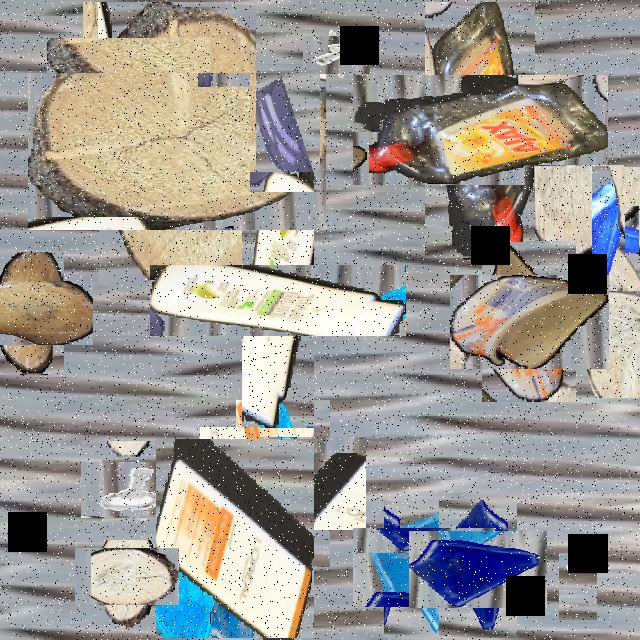glass: (218, 418, 348, 549), (65, 20, 193, 147), (368, 512, 479, 622), (424, 515, 532, 623), (250, 68, 320, 192), (200, 427, 260, 533), (572, 186, 640, 272)
metal: (91, 452, 169, 529), (155, 166, 213, 268), (310, 29, 362, 81), (559, 553, 597, 620)
plastic: (388, 38, 572, 222), (156, 439, 314, 638), (196, 218, 360, 382), (466, 258, 592, 386)
wood: (63, 37, 291, 265), (525, 166, 625, 262), (557, 266, 640, 373), (0, 266, 78, 359), (86, 536, 168, 616)
